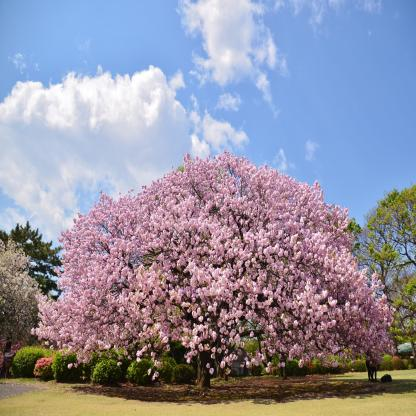YaeSakura: (30, 149, 399, 384), (0, 230, 40, 361)
